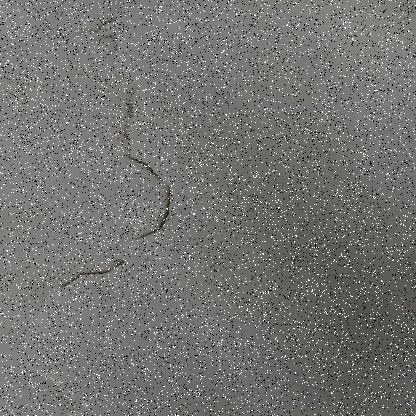Crack: (36, 0, 197, 319)
